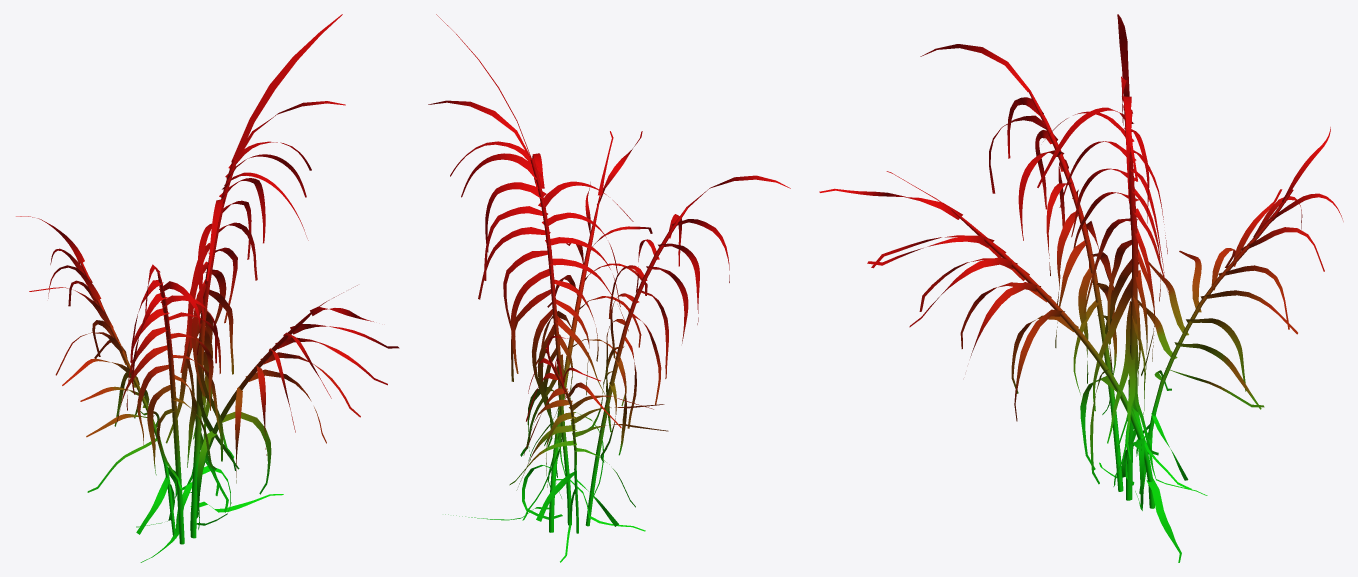
File: Giant Reed_LOD0_Var2_sjllX.fbx
3 views of the same model, side by side, from view 1: azimuth 30°, elevation 25°; view 2: azimuth 150°, elevation 25°; view 3: azimuth 270°, elevation 25° (orthographic). The views are drawn at different scales.
Visible parts, largest first — view 1: _4079_Var2_LOD0; view 2: _4079_Var2_LOD0; view 3: _4079_Var2_LOD0.
Part boxes in pixels (left/top/right/bottom): _4079_Var2_LOD0: left=16, top=14, right=399, bottom=562; _4079_Var2_LOD0: left=428, top=14, right=790, bottom=562; _4079_Var2_LOD0: left=819, top=14, right=1343, bottom=562.
Bounding box in the file's own units: 124 × 205 × 169.
